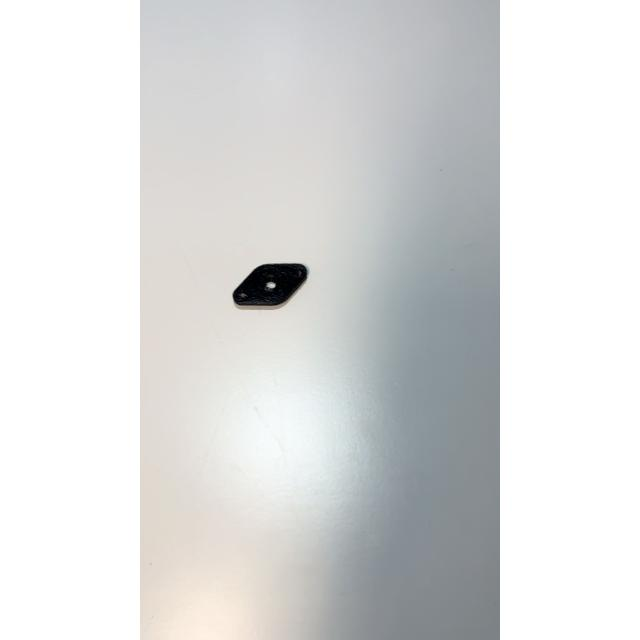Pieza_2: (225, 256, 318, 320)
